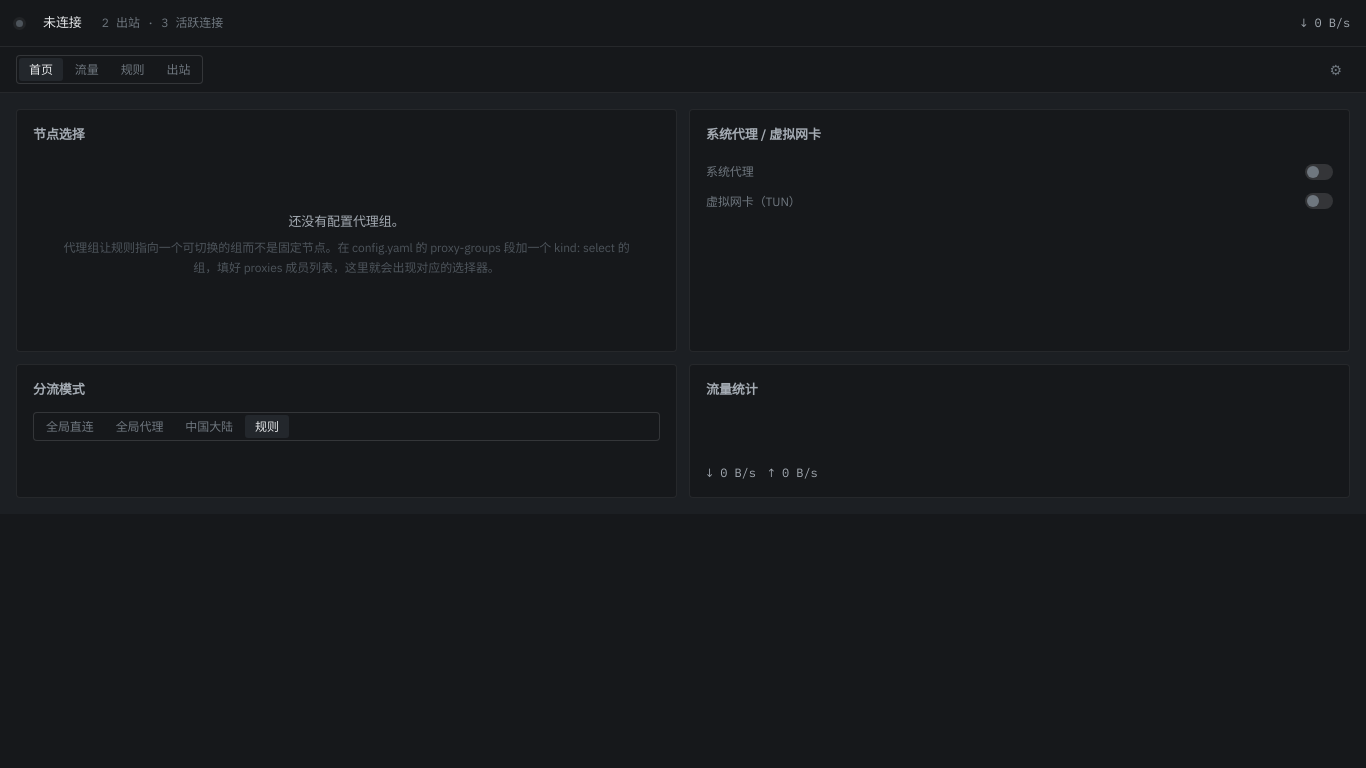
Test: 组装：设置覆盖层的焦点往返（Task 15 遗留的那一条） › 齿轮用 aria-expanded 播报覆盖层的开合
Step 1. Click the button named "打开设置" → (1336, 70), box [1322,58,1350,82]
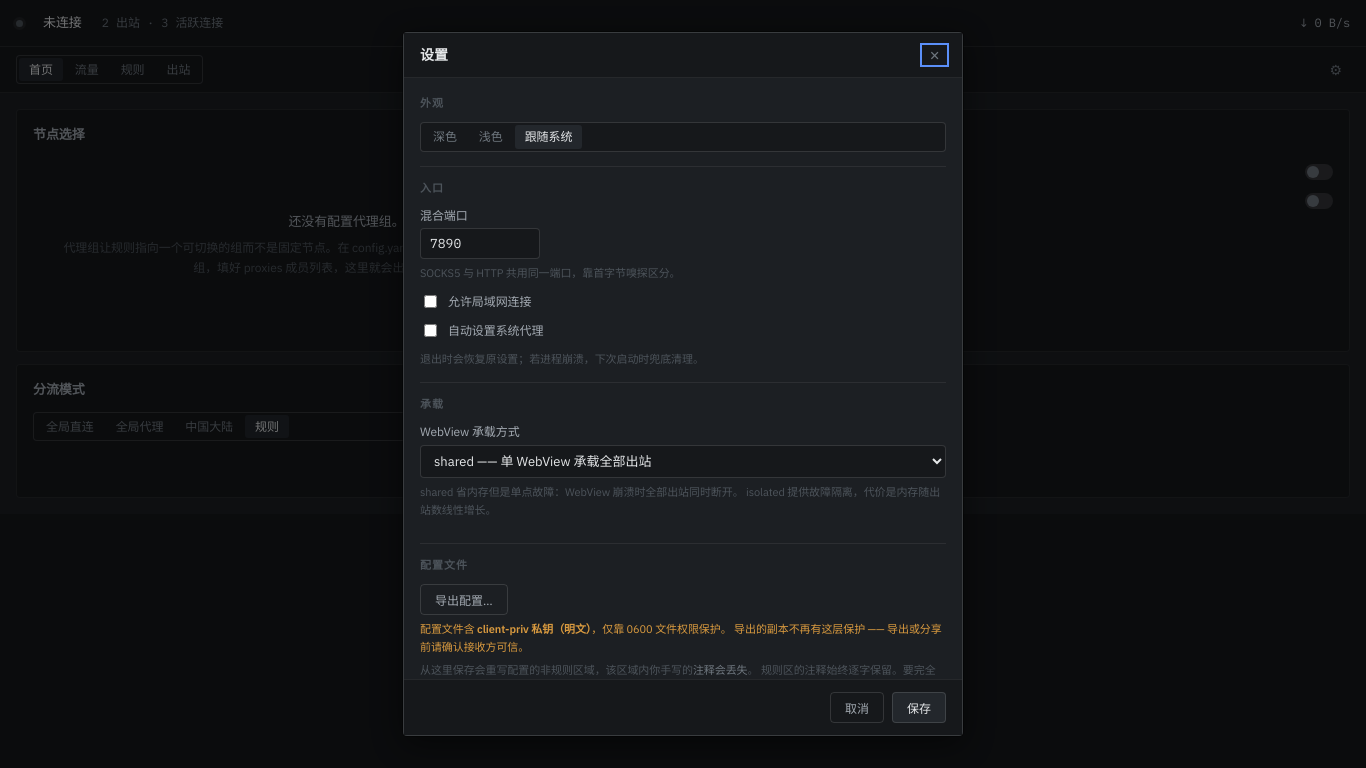
Now the dialog is shown, box [403,32,963,736]
Now the button named "打开设置" is expanded, box [1322,58,1350,82]
